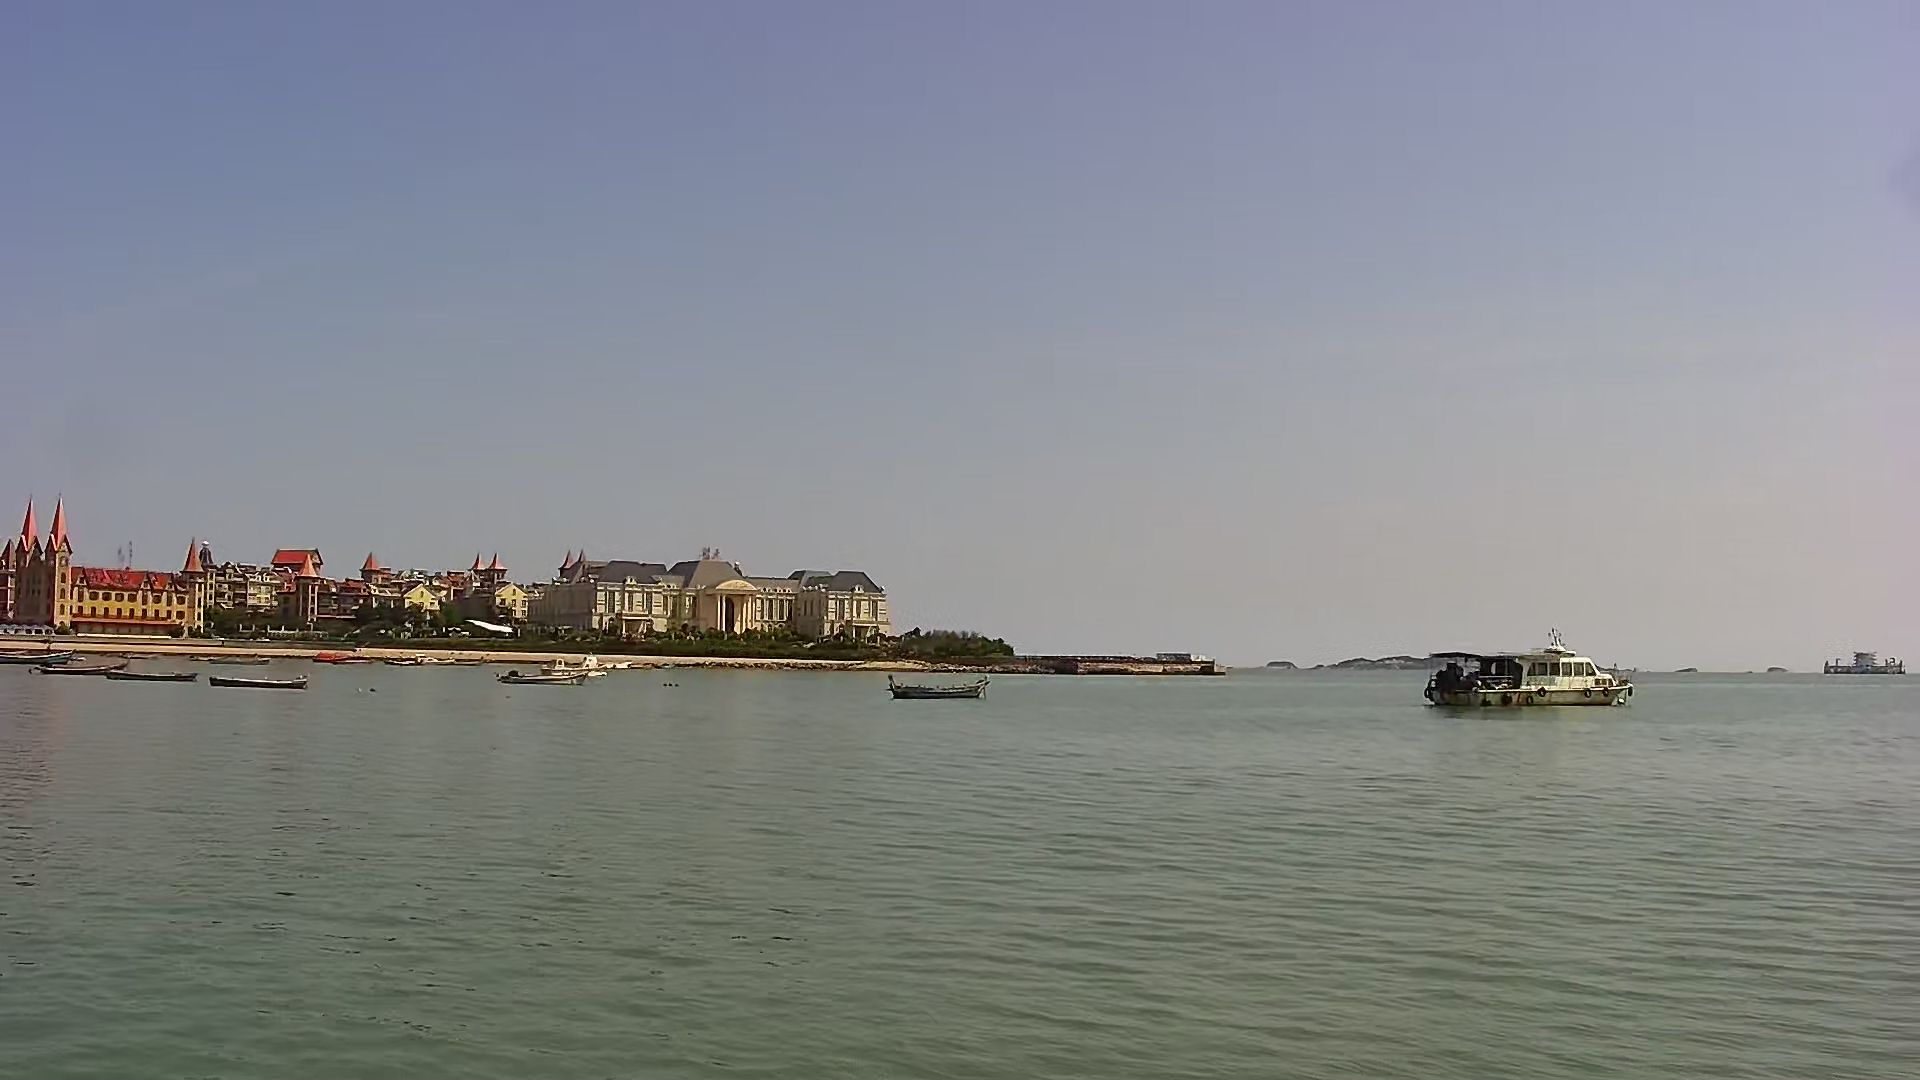boat: (884, 669, 993, 698), (498, 657, 595, 688), (104, 663, 206, 691), (28, 657, 132, 679), (207, 669, 311, 690)
platform: (1821, 647, 1908, 679)
ship: (1423, 637, 1638, 713)
